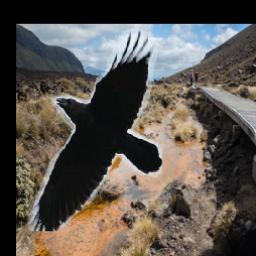Crow: (29, 27, 163, 232)
